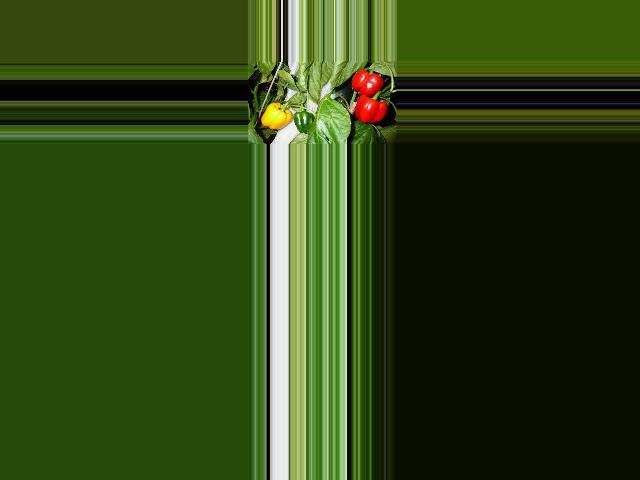bell_pepper: (258, 101, 293, 132)
